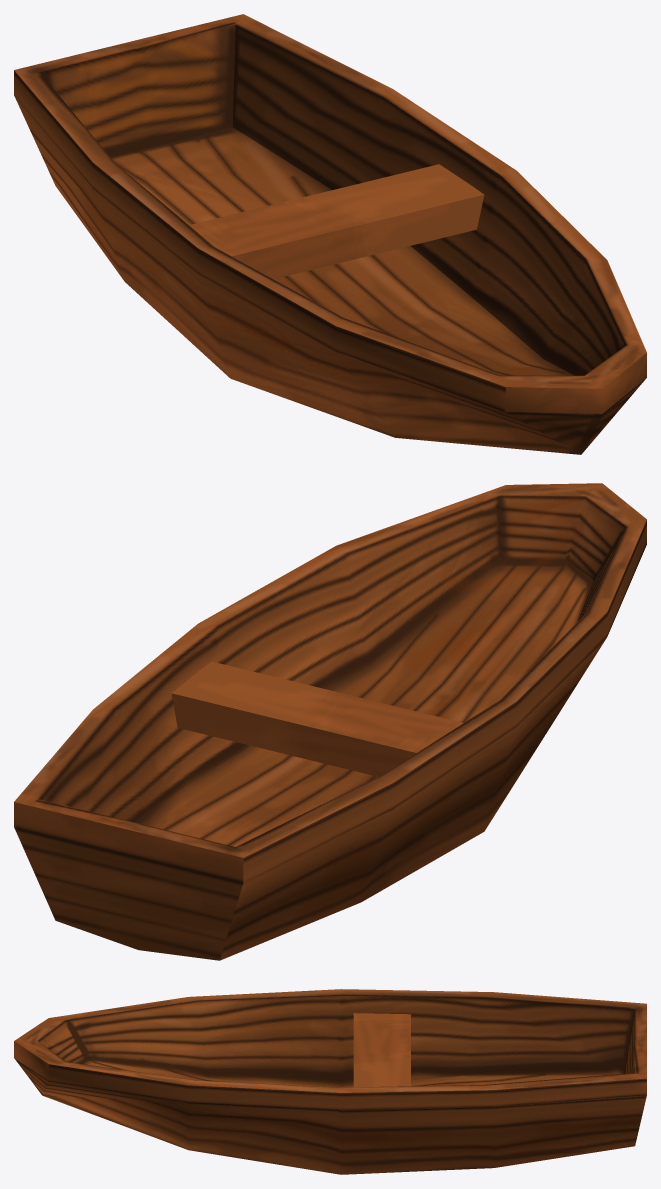
Rendered from sampan.FBX.
3 renders of one model, top to bottom at view 1: azimuth 30°, elevation 25°; view 2: azimuth 150°, elevation 25°; view 3: azimuth 270°, elevation 25°, orthographic. The views are drawn at different scales.
Visible parts, largest first — view 1: Box009; view 2: Box009; view 3: Box009.
Part boxes in pixels (x1,y1,x2,y2): Box009: (14, 14, 646, 454); Box009: (14, 483, 646, 960); Box009: (14, 989, 646, 1174).
Size of the model in its own units: 120 by 54.47 by 308.
1 material, 1 textured.
